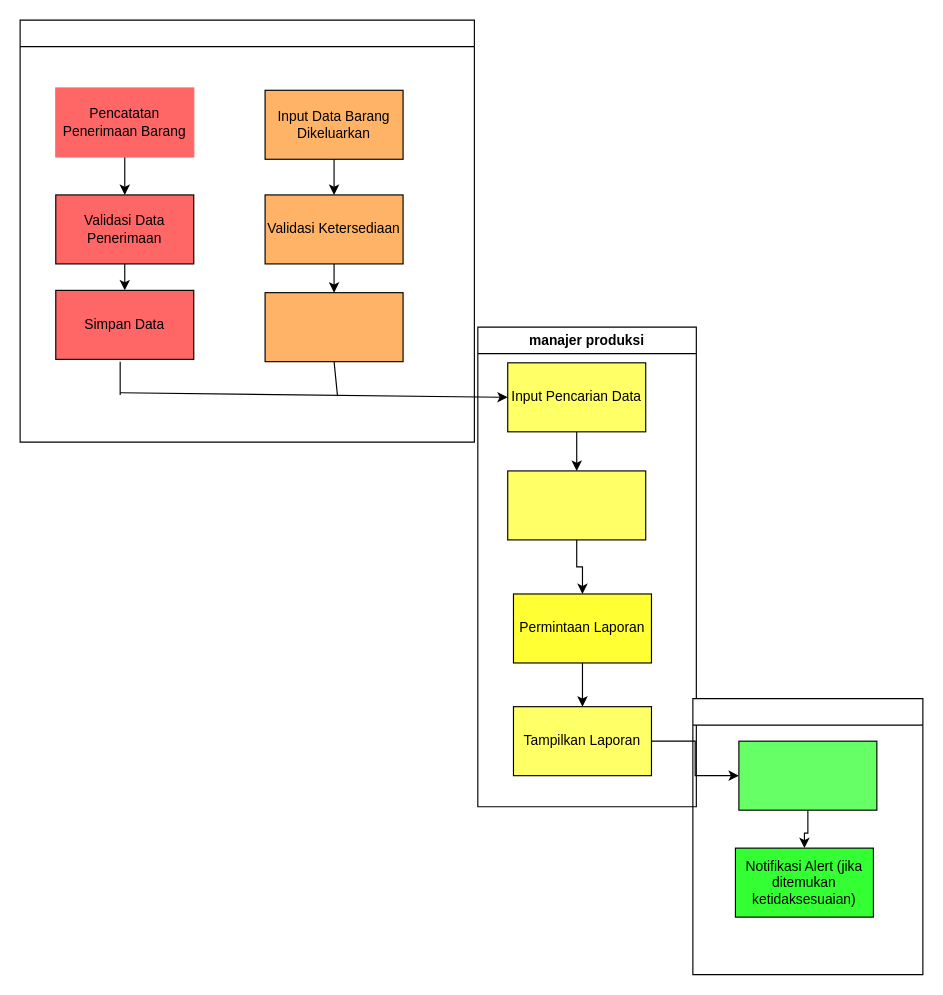
This 943x995 diagram has some shape labels left out. The box of each missing label's shape, as (x1, y1, x2, y2) in pixels:
Pelacakan Barang Secara Real-time: (738, 740, 877, 810)
petugas gudang: (19, 19, 474, 442)
Simpan Data Pengeluaran: (264, 292, 403, 362)
sistem: (692, 697, 923, 975)
Tampilkan Hasil Pencarian: (507, 470, 646, 540)
